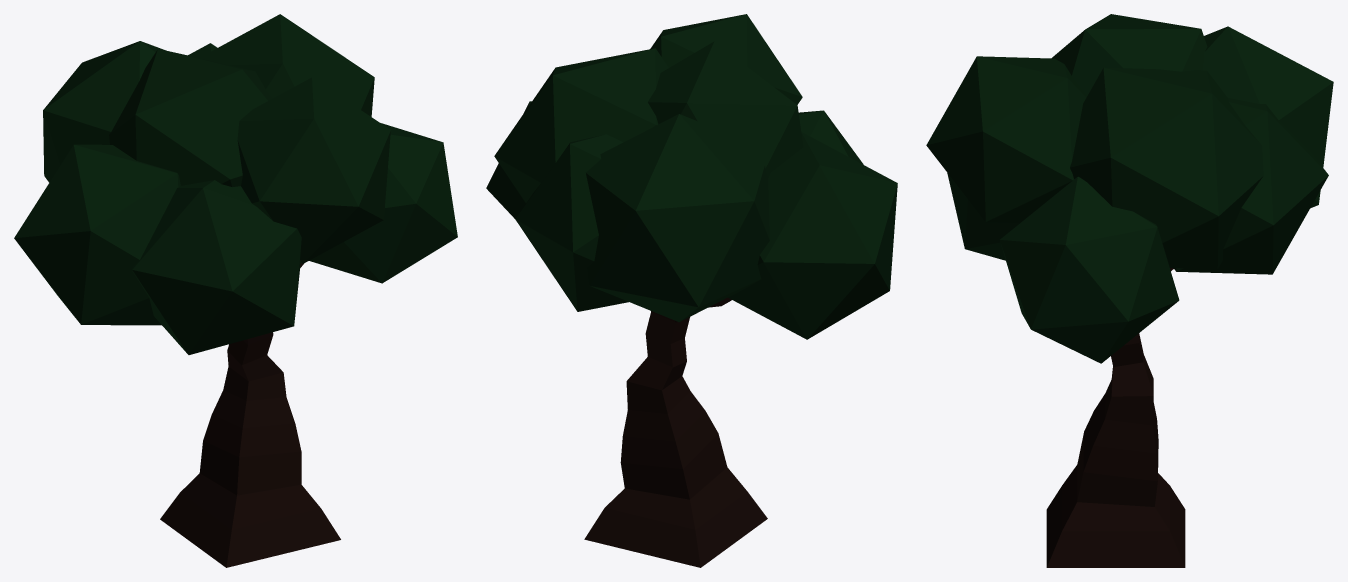
Rendered from tree6.obj.
3 renders of one model, left to right at view 1: azimuth 30°, elevation 25°; view 2: azimuth 150°, elevation 25°; view 3: azimuth 270°, elevation 25°, orthographic. The views are drawn at different scales.
Parts seen in each view (by area): view 1: tree6; view 2: tree6; view 3: tree6.
Part boxes in pixels (x1,y1,x2,y2): tree6: [14, 14, 457, 567]; tree6: [486, 14, 897, 567]; tree6: [926, 14, 1333, 567].
Bounding box in the file's own units: 6.23 × 7.13 × 5.29.
